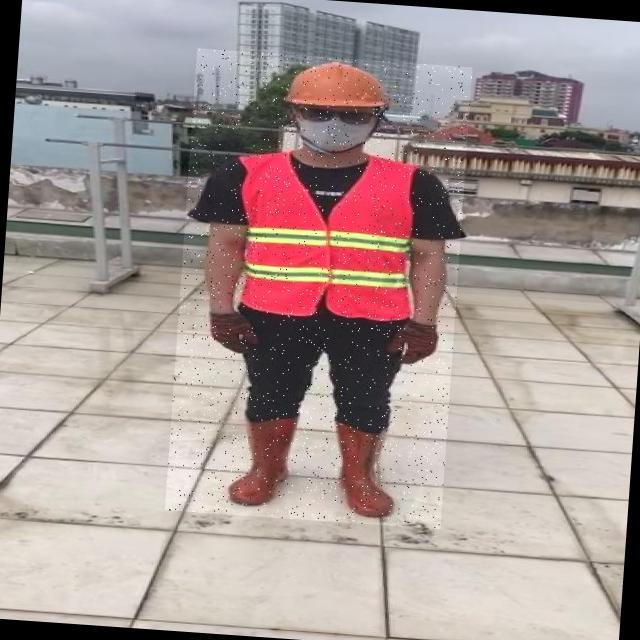Gloves: (204, 306, 261, 356), (385, 322, 440, 369)
Helmet: (284, 55, 397, 115)
Human: (164, 48, 472, 529)
Safety Boot: (327, 419, 402, 520), (225, 412, 295, 508)
Safety Vest: (230, 149, 421, 322)
